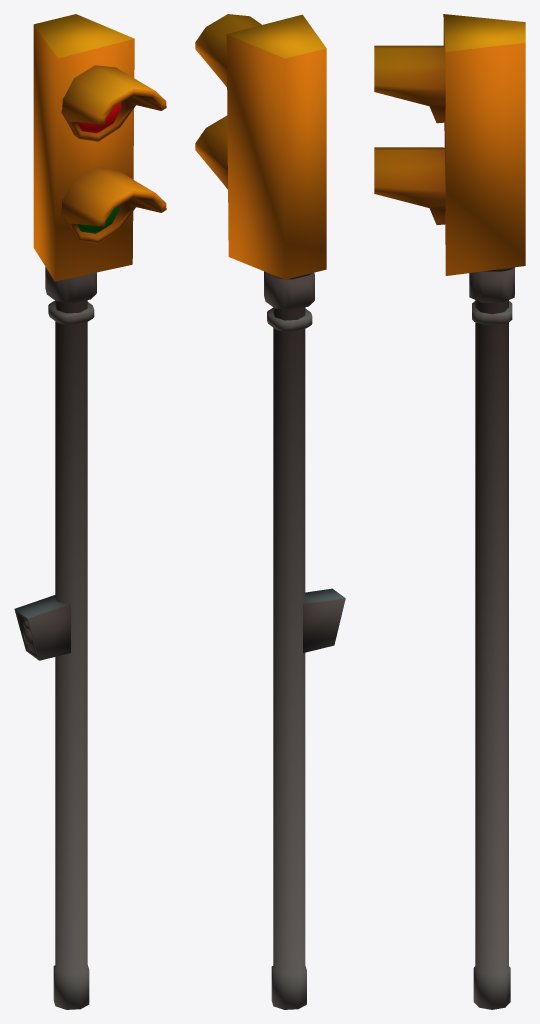
Rendered from furnishings-outdoor-yellowtrafficlight_v3.glb.
The picture shows the model from 3 angles, left to right: view 1: azimuth 30°, elevation 25°; view 2: azimuth 210°, elevation 25°; view 3: azimuth 270°, elevation 25°; orthographic projection.
Parts seen in each view (by area): view 1: YellowTrafficLight_v3_base, YellowTrafficLight_v3_light; view 2: YellowTrafficLight_v3_base; view 3: YellowTrafficLight_v3_base.
Boxes of the visible parts, x1,y1,x2,y2 form: YellowTrafficLight_v3_base: [14, 14, 166, 1009]; YellowTrafficLight_v3_light: [77, 102, 121, 133]; YellowTrafficLight_v3_base: [195, 14, 345, 1009]; YellowTrafficLight_v3_base: [374, 14, 525, 1009].
Size of the model in its own units: 0.2538 by 2.6 by 0.3685.
